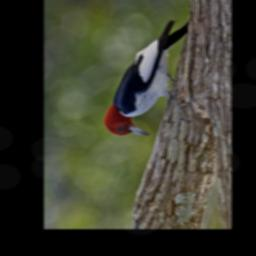Woodpecker: (101, 17, 195, 141)
